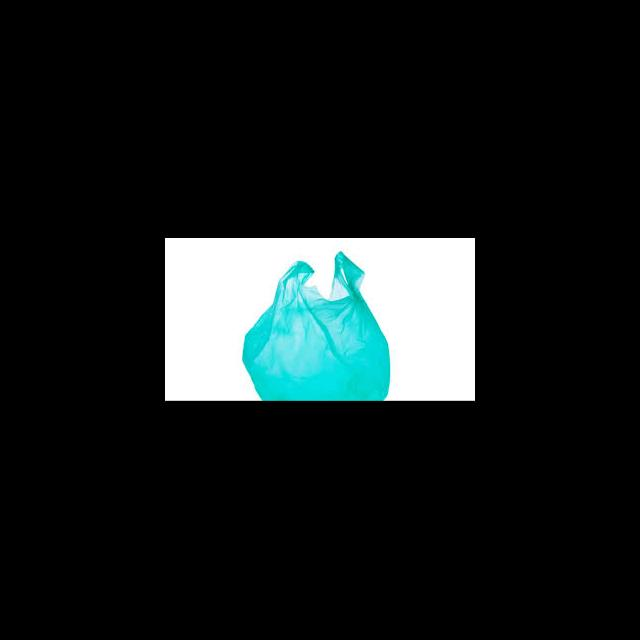plastic: (241, 250, 389, 400)
